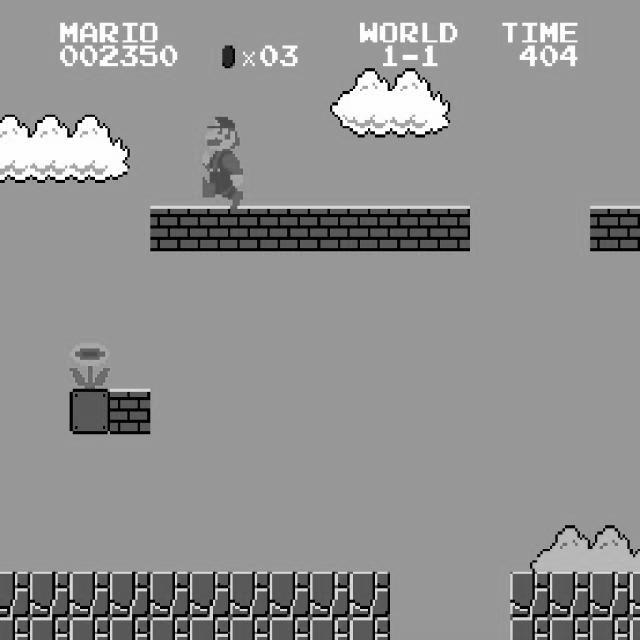0- big_mario: (200, 114, 242, 208)
1- brick_block: (110, 388, 150, 434), (150, 206, 190, 251), (190, 206, 230, 251), (230, 206, 270, 251), (270, 206, 310, 251), (310, 206, 350, 251), (350, 206, 390, 251), (390, 206, 430, 251), (430, 206, 470, 251), (590, 206, 630, 251), (629, 205, 640, 251)
17- undestructible_block: (30, 572, 70, 618), (70, 572, 110, 618), (110, 572, 150, 618), (150, 572, 190, 618), (190, 572, 230, 618), (230, 572, 270, 618), (270, 572, 310, 618), (310, 572, 350, 618), (350, 572, 390, 618), (510, 572, 550, 618), (550, 572, 590, 618), (590, 572, 630, 618), (0, 572, 30, 618), (30, 617, 70, 640), (70, 617, 110, 640), (110, 617, 150, 640), (150, 617, 190, 640), (190, 617, 230, 640), (230, 617, 270, 640), (270, 617, 310, 640), (310, 617, 350, 640), (350, 617, 390, 640), (510, 617, 550, 640), (550, 617, 590, 640), (590, 617, 630, 640), (0, 617, 30, 640), (629, 571, 640, 617), (629, 617, 640, 639)
3- empty_block: (70, 388, 110, 434)
6- flower: (67, 341, 110, 388)
